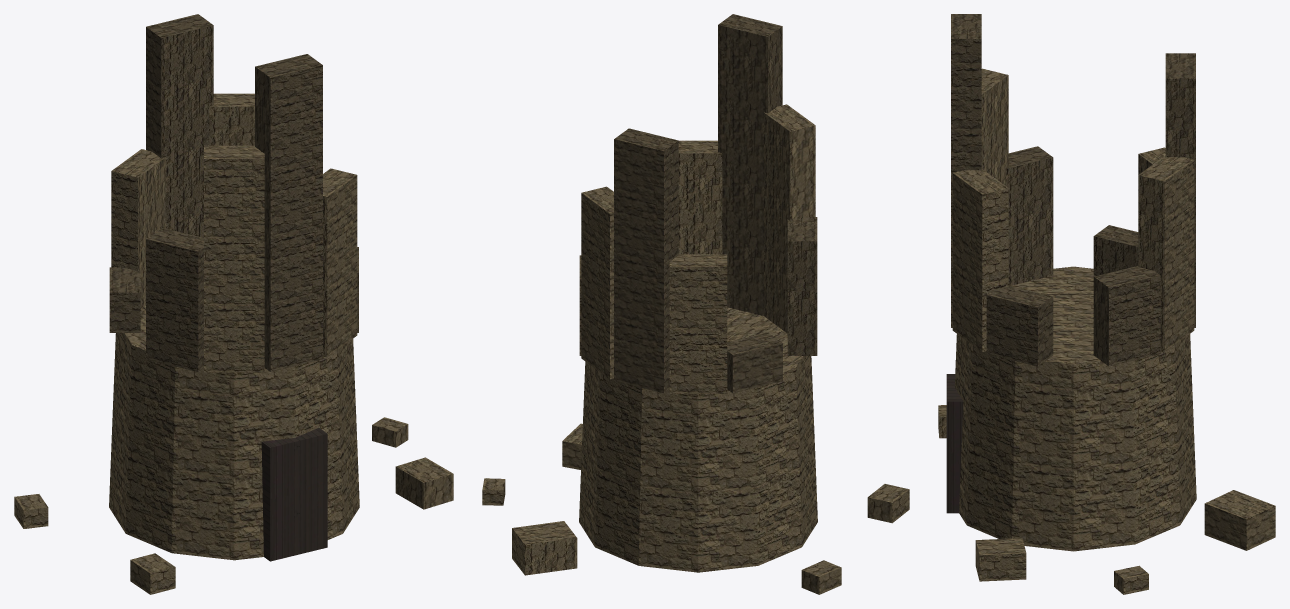
The model's file is tower_ruin_01.glb.
3 renders of one model, left to right at view 1: azimuth 30°, elevation 25°; view 2: azimuth 150°, elevation 25°; view 3: azimuth 270°, elevation 25°, orthographic. The views are drawn at different scales.
Parts seen in each view (by area): view 1: tower_ruin_01; view 2: tower_ruin_01; view 3: tower_ruin_01.
Part boxes in pixels (x1,y1,x2,y2): tower_ruin_01: [14, 14, 453, 594]; tower_ruin_01: [482, 14, 909, 594]; tower_ruin_01: [938, 14, 1275, 594].
Size of the model in its own units: 5.94 by 7.2 by 4.66.
3 materials, 3 textured.
